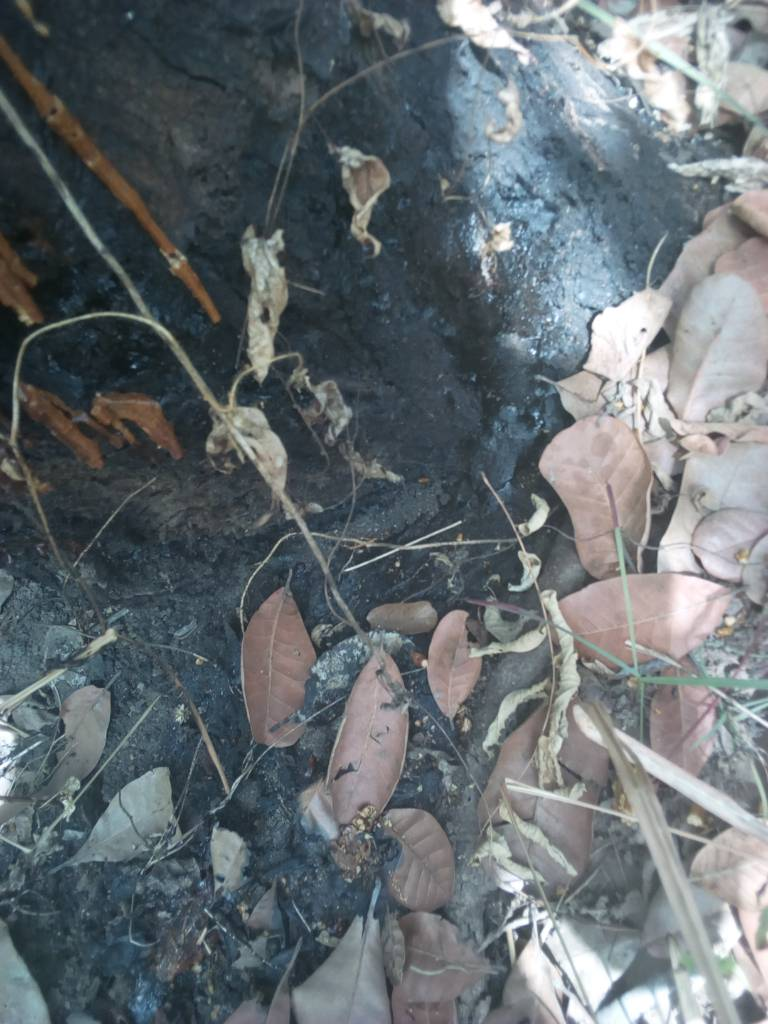Gommose: (258, 69, 615, 453)
